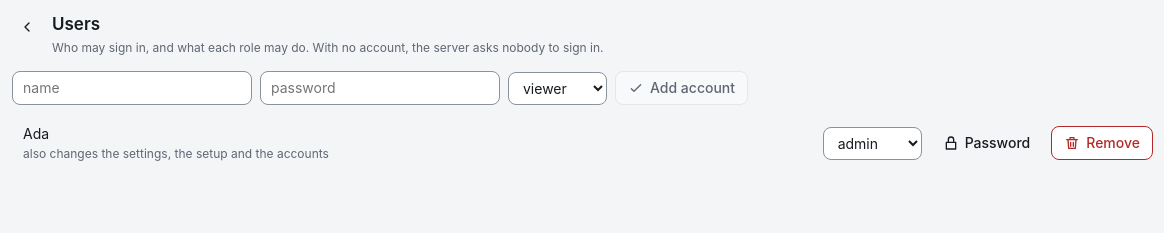
Test: AccountsView › lists the accounts, adds one, changes a role, sets a password and removes one
The image size is (1164, 233).
Later steps or results of the test are not shown.
expect the text "Ada" is shown: met, box left=23, top=125, right=49, bottom=142
Type "Ada" into the field named "new account's name" at [132, 88], box left=12, top=71, right=252, bottom=105
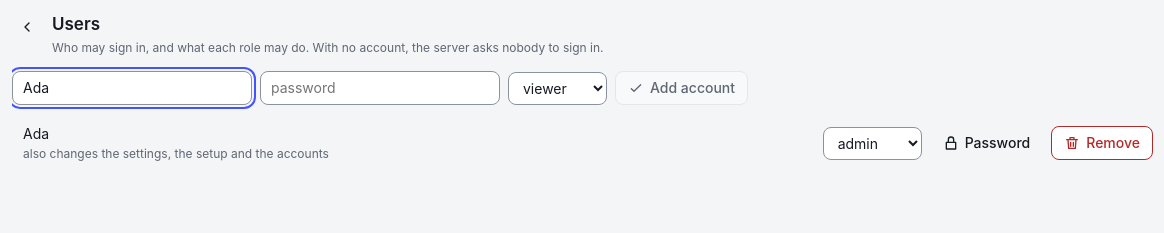
Type "pw" into the password field named "new account's password" at [380, 88], box left=260, top=71, right=500, bottom=105
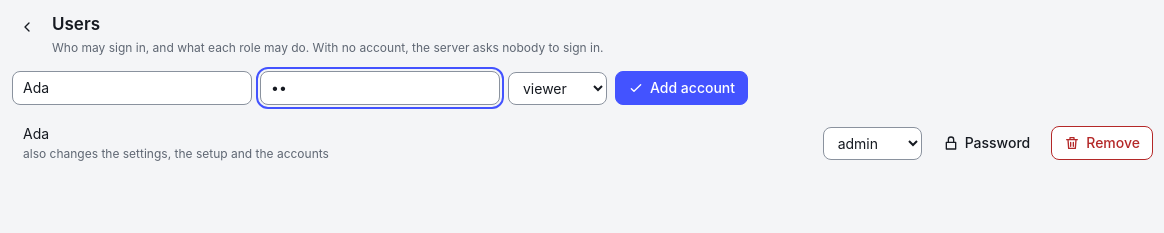
Click the button "Add account" at [682, 88], box left=615, top=71, right=748, bottom=105
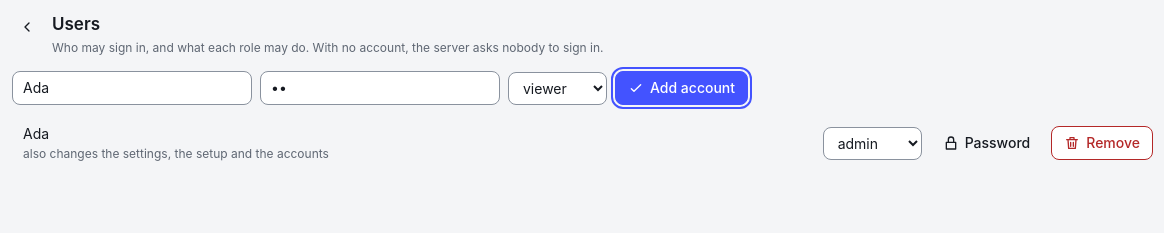
Replace the text in the field named "new account's name" with "Lea" at [132, 88], box left=12, top=71, right=252, bottom=105
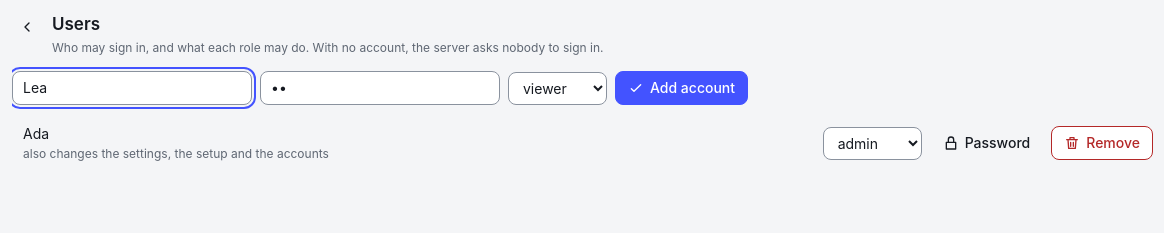
Select "operator" in the dropdown named "new account's role" at [558, 88], box left=508, top=72, right=607, bottom=105
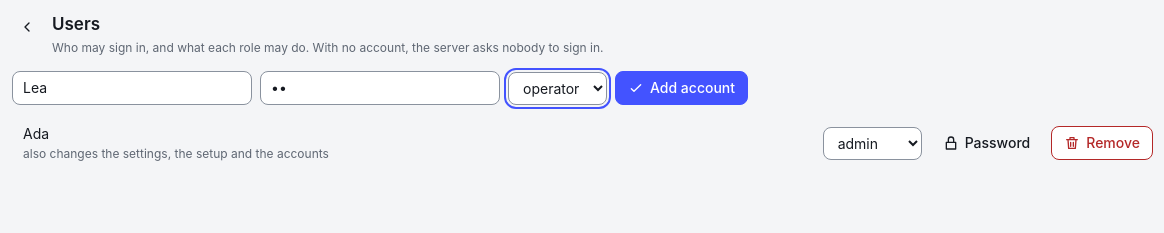
Click the button "Add account" at [682, 88], box left=615, top=71, right=748, bottom=105
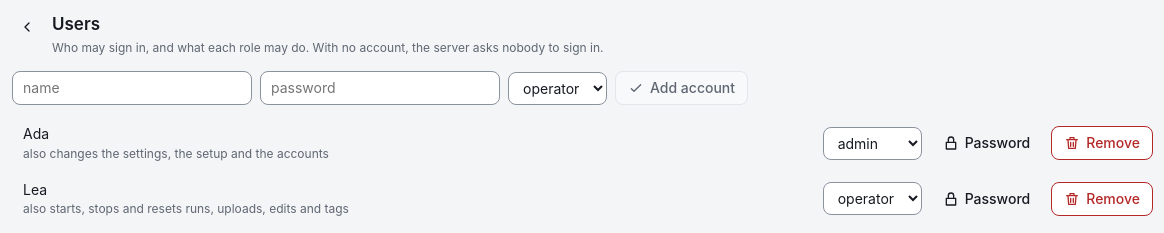
expect the text "Lea" is shown: met, box left=23, top=181, right=47, bottom=198
